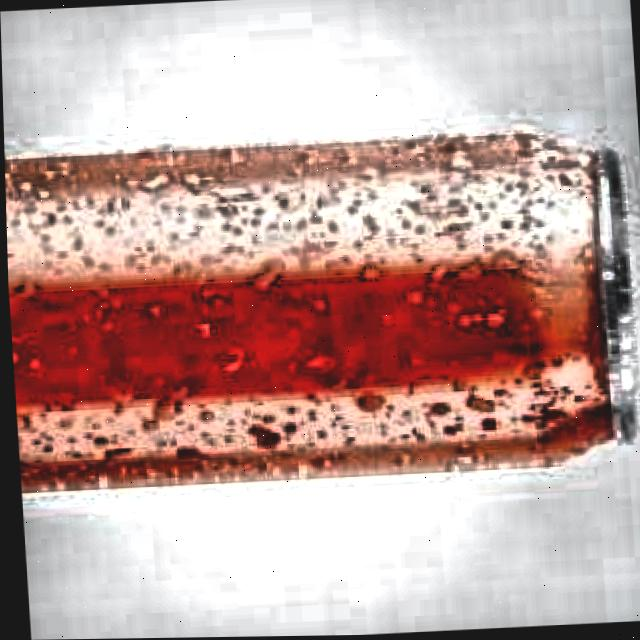metal: (3, 112, 640, 517)
